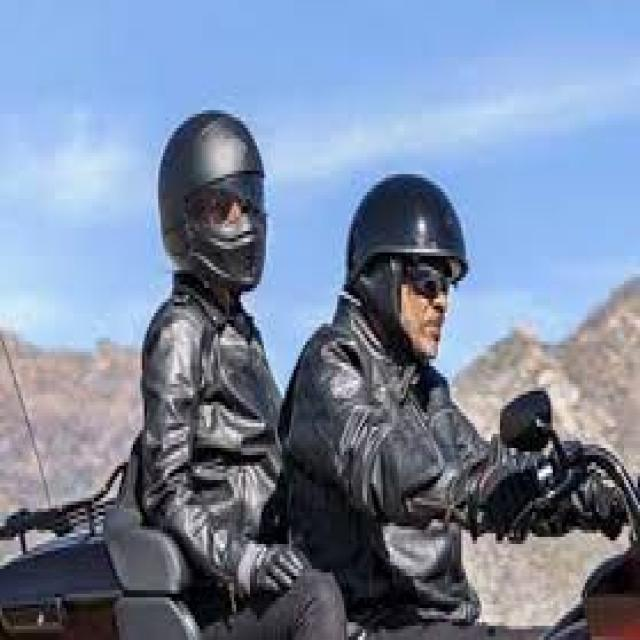Helmet: (156, 107, 266, 288), (344, 170, 468, 284)
